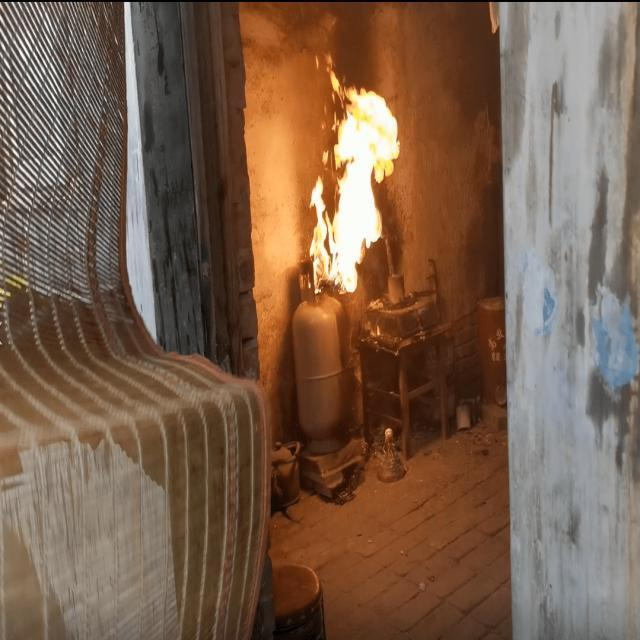fire: (308, 54, 399, 296)
